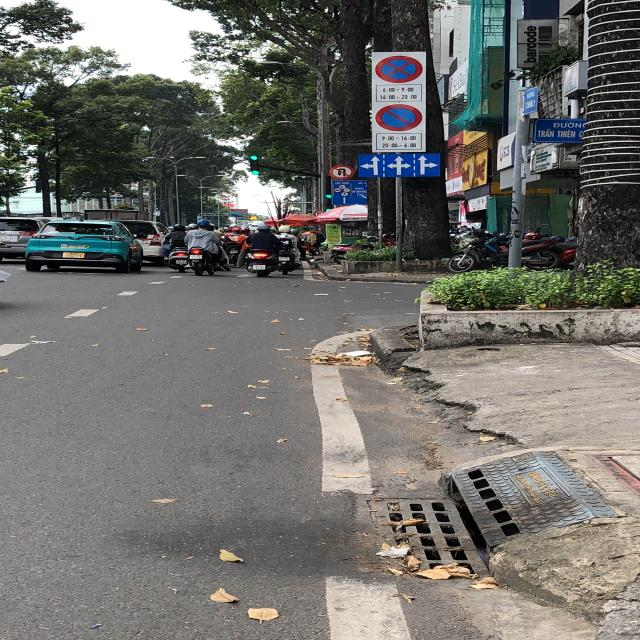Bien bao cam do xe: (376, 103, 428, 134)
Bien bao cam dung xe va do xe: (372, 53, 431, 84)
Bien bao cam quay dau xe: (326, 164, 356, 179)
